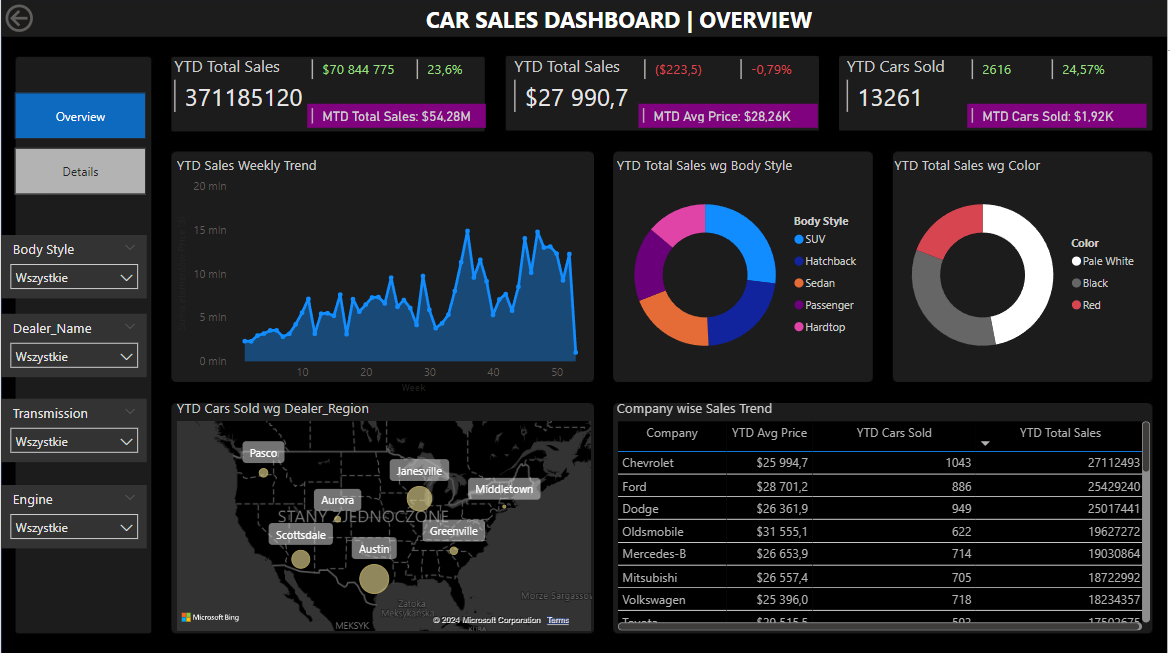

Layout of this report page (visuals, bound fields, positions):
{"tool":"powerbi","page":{"name":"Overview","canvas":[1280,720],"ordinal":0},"visuals":[{"type":"multiRowCard","title":"YTD Total Sales","fields":{"Values":["car_data.YTD Total Sales"]},"box":[185.3,60.7,229,79.4],"z":0},{"type":"multiRowCard","fields":{"Values":["car_data.Sales Difference"]},"box":[336.4,60.7,115.3,37.4],"z":1000},{"type":"multiRowCard","fields":{"Values":["car_data.YoY Sales Growth"]},"box":[451.7,60.7,71.6,37.4],"z":2000},{"type":"multiRowCard","fields":{"Values":["car_data.MTD KPI"]},"box":[336.4,113.7,196.3,26.5],"z":3000},{"type":"multiRowCard","title":"YTD Total Sales","fields":{"Values":["car_data.YTD Avg Price"]},"box":[559.2,60.7,141.7,79.4],"z":4000},{"type":"multiRowCard","fields":{"Values":["car_data.Avr Price Diff"]},"box":[700.9,60.7,82.6,37.4],"z":5000},{"type":"multiRowCard","fields":{"Values":["car_data.YoY Avg Price Growth"]},"box":[806.5,61,71.4,36.6],"z":6000},{"type":"multiRowCard","fields":{"Values":["car_data.MTD Avg Price KPI"]},"box":[700.3,113.2,196.8,26.1],"z":7000},{"type":"multiRowCard","title":"YTD Cars Sold","fields":{"Values":["car_data.YTD Cars Sold"]},"box":[923.2,61,137.6,80.1],"z":8000},{"type":"multiRowCard","fields":{"Values":["car_data.Cars Sold Diff"]},"box":[1060.9,61,74.9,36.6],"z":9000},{"type":"multiRowCard","fields":{"Values":["car_data.YoY Car Sold Growth"]},"box":[1148,61,71.4,36.6],"z":10000},{"type":"multiRowCard","fields":{"Values":["car_data.MTD Cars Sold KPI"]},"box":[1060.9,113.2,196.8,26.1],"z":11000},{"type":"areaChart","title":"YTD Sales Weekly Trend","fields":{"Category":["Calendar Table.Week"],"Y":["Sum(car_data.Price ($))"]},"box":[188.1,170.7,465.1,266.5],"z":12000},{"type":"donutChart","fields":{"Category":["car_data.Body Style"],"Y":["car_data.YTD Total Sales"]},"box":[670.7,170.7,282.2,243.9],"z":13000},{"type":"map","fields":{"Category":["car_data.Dealer_Region"],"Size":["car_data.YTD Cars Sold"]},"box":[188.1,437.2,465.1,259.6],"z":14000},{"type":"tableEx","title":"Company wise Sales Trend","fields":{"Values":["car_data.Company","car_data.YTD Avg Price","car_data.YTD Cars Sold","car_data.YTD Total Sales"]},"box":[670.7,437.2,595.8,259.6],"z":15000},{"type":"donutChart","fields":{"Category":["car_data.Color"],"Y":["car_data.YTD Total Sales"]},"box":[975.5,170.7,282.2,243.9],"z":15001},{"type":"actionButton","box":[0,0,100,40],"z":15002},{"type":"textbox","box":[433.8,0,489.5,47],"z":15003},{"type":"slicer","fields":{"Values":["car_data.Body Style"]},"box":[0,257.8,160.3,69.7],"z":15004},{"type":"slicer","fields":{"Values":["car_data.Dealer_Name"]},"box":[0,344.9,160.3,69.7],"z":15005},{"type":"slicer","fields":{"Values":["car_data.Transmission"]},"box":[0,437.2,160.3,69.7],"z":15006},{"type":"slicer","fields":{"Values":["car_data.Engine"]},"box":[0,533,160.3,69.7],"z":15007},{"type":"pageNavigator","box":[15.7,101,144.6,113.2],"z":15008}]}

Visuals, with their boxes on the page's 1280x720 design canvas (x1, y1, x2, y2). These are canvas units, not pixel positions in the 1170x653 screenshot, which may show the page scaled, cropped or inside an application window:
"YTD Total Sales" multiRowCard: bbox=(185, 61, 414, 140)
multiRowCard - car_data.Sales Difference: bbox=(336, 61, 452, 98)
multiRowCard - car_data.YoY Sales Growth: bbox=(452, 61, 523, 98)
multiRowCard - car_data.MTD KPI: bbox=(336, 114, 533, 140)
"YTD Total Sales" multiRowCard: bbox=(559, 61, 701, 140)
multiRowCard - car_data.Avr Price Diff: bbox=(701, 61, 784, 98)
multiRowCard - car_data.YoY Avg Price Growth: bbox=(806, 61, 878, 98)
multiRowCard - car_data.MTD Avg Price KPI: bbox=(700, 113, 897, 139)
"YTD Cars Sold" multiRowCard: bbox=(923, 61, 1061, 141)
multiRowCard - car_data.Cars Sold Diff: bbox=(1061, 61, 1136, 98)
multiRowCard - car_data.YoY Car Sold Growth: bbox=(1148, 61, 1219, 98)
multiRowCard - car_data.MTD Cars Sold KPI: bbox=(1061, 113, 1258, 139)
"YTD Sales Weekly Trend" areaChart: bbox=(188, 171, 653, 437)
donutChart - car_data.Body Style x car_data.YTD Total Sales: bbox=(671, 171, 953, 415)
map - car_data.Dealer_Region x car_data.YTD Cars Sold: bbox=(188, 437, 653, 697)
"Company wise Sales Trend" tableEx: bbox=(671, 437, 1266, 697)
donutChart - car_data.Color x car_data.YTD Total Sales: bbox=(976, 171, 1258, 415)
actionButton: bbox=(0, 0, 100, 40)
textbox: bbox=(434, 0, 923, 47)
slicer - car_data.Body Style: bbox=(0, 258, 160, 328)
slicer - car_data.Dealer_Name: bbox=(0, 345, 160, 415)
slicer - car_data.Transmission: bbox=(0, 437, 160, 507)
slicer - car_data.Engine: bbox=(0, 533, 160, 603)
pageNavigator: bbox=(16, 101, 160, 214)
